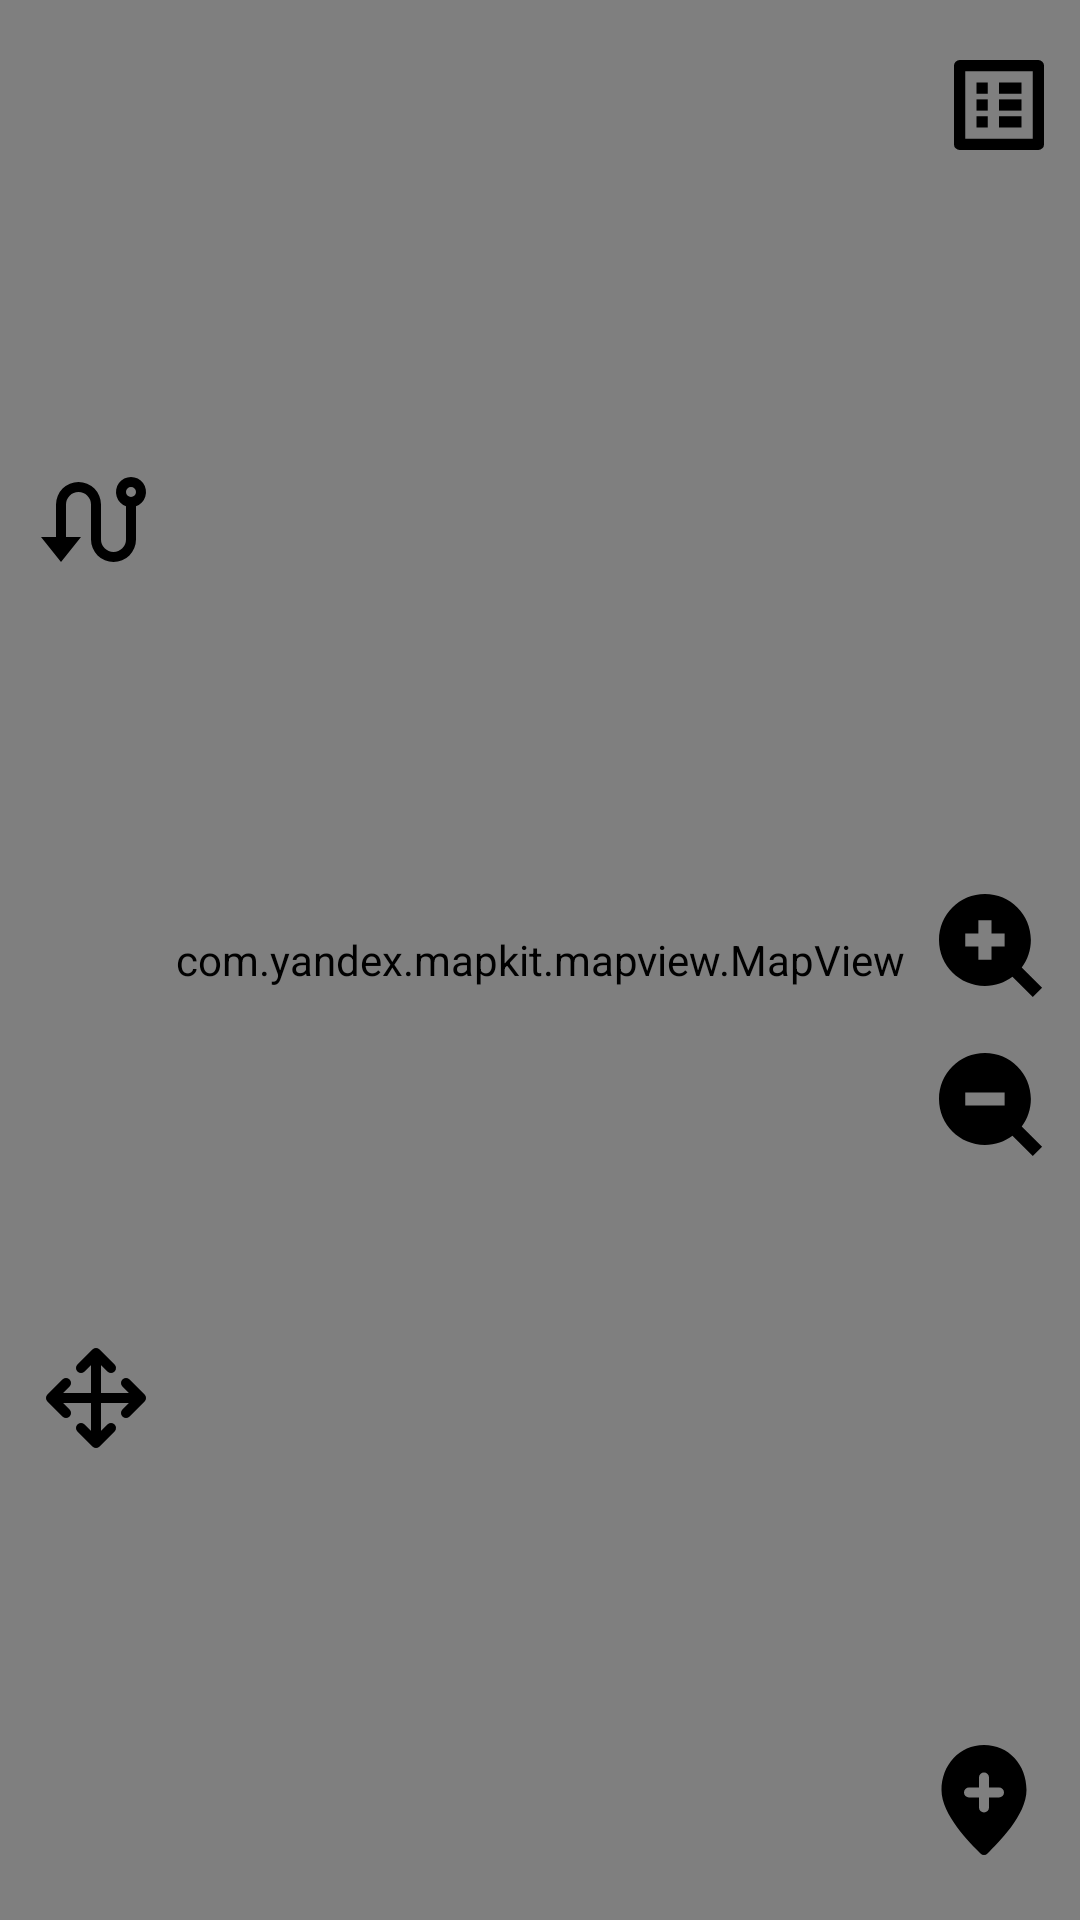

Where icons sit on this 1080px x 1920px app screen, as (x1, y1, x2, y2):
add points: (941, 1745, 1027, 1855)
list: (954, 60, 1044, 150)
location cross: (46, 1348, 146, 1448)
minus: (939, 1053, 1042, 1156)
plus: (939, 894, 1042, 997)
route: (41, 477, 146, 562)
